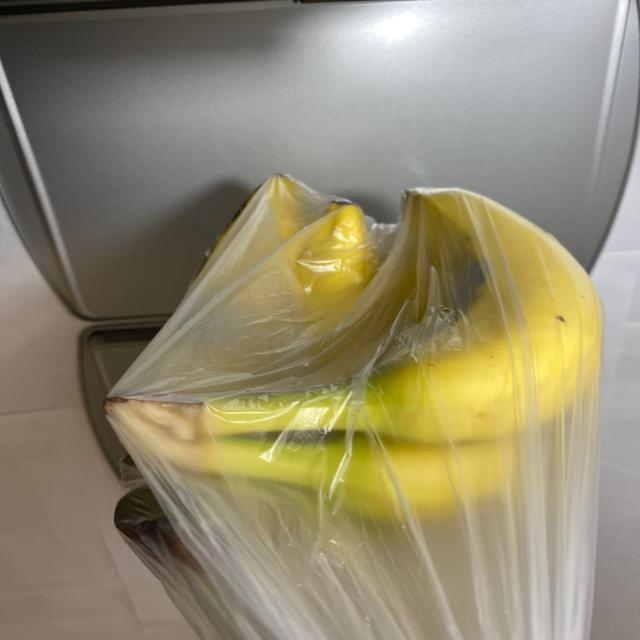banana: (99, 168, 606, 568)
